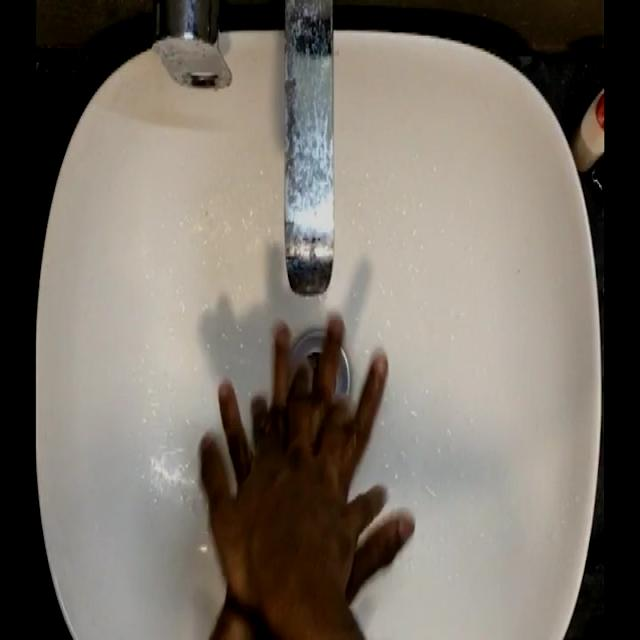step_2: (181, 302, 428, 598)
